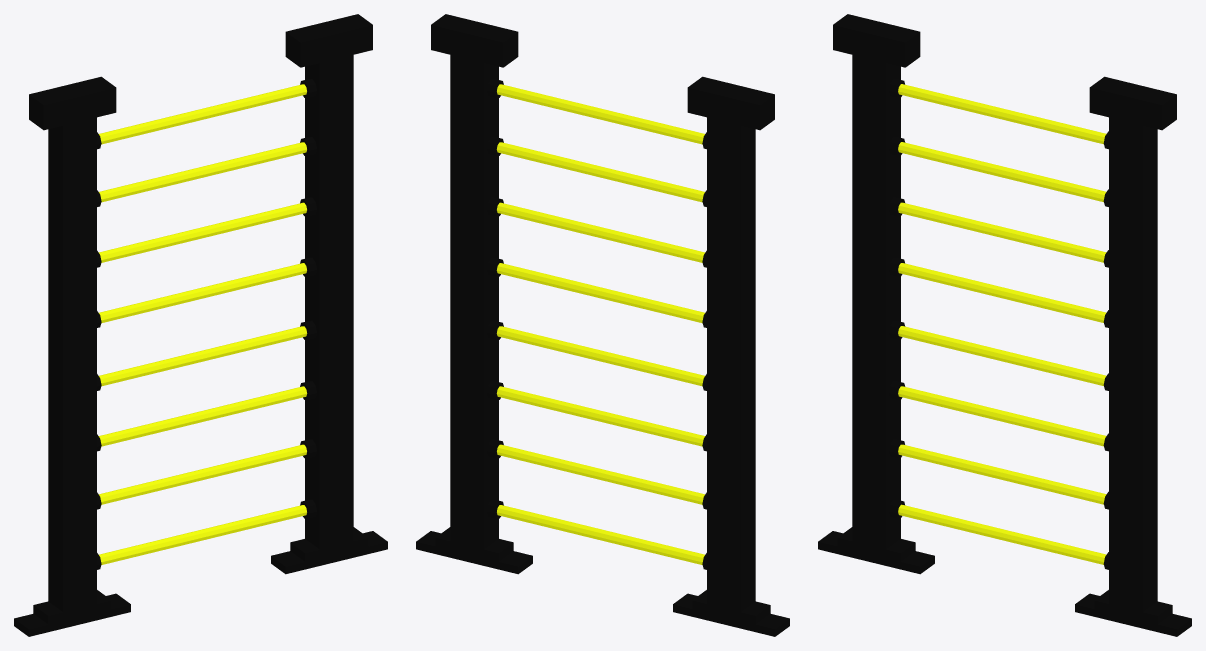
File: LaserBarriere 3.glb
3 views of the same model, side by side, from view 1: azimuth 30°, elevation 25°; view 2: azimuth 150°, elevation 25°; view 3: azimuth 330°, elevation 25° (orthographic).
Visible parts, largest first — view 1: Scifi_SmallLaser_Barrier_Scifi_Tunnel_Texture_0.002; view 2: Scifi_SmallLaser_Barrier_Scifi_Tunnel_Texture_0.002; view 3: Scifi_SmallLaser_Barrier_Scifi_Tunnel_Texture_0.002.
Part boxes in pixels (box(x1,y1,x2,y2)): Scifi_SmallLaser_Barrier_Scifi_Tunnel_Texture_0.002: box(14, 14, 387, 636); Scifi_SmallLaser_Barrier_Scifi_Tunnel_Texture_0.002: box(416, 14, 789, 636); Scifi_SmallLaser_Barrier_Scifi_Tunnel_Texture_0.002: box(818, 14, 1191, 636).
Bounding box in the file's own units: 1.93 × 2.71 × 0.1376.
1 material, 1 textured.
